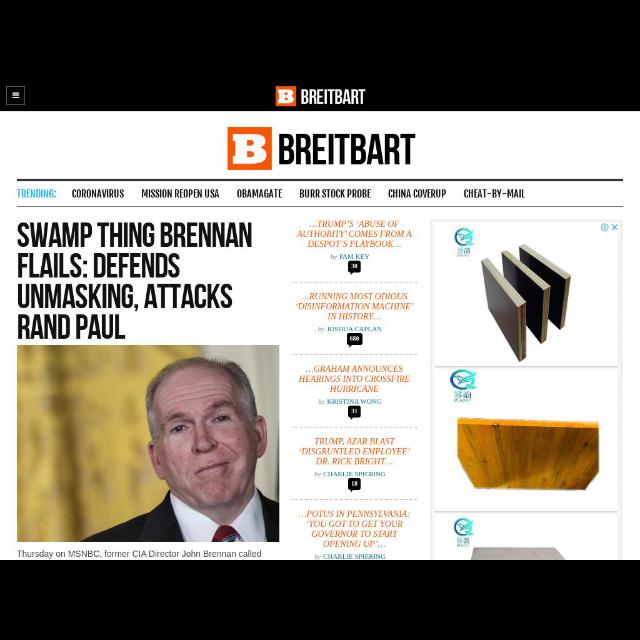icon: (7, 86, 25, 104), (348, 334, 362, 346), (349, 406, 361, 420), (349, 262, 361, 274), (349, 480, 361, 492)
iframe: (431, 220, 621, 560)
image: (18, 346, 278, 542), (228, 128, 272, 170), (276, 86, 296, 105)
text: (19, 284, 233, 312), (18, 223, 252, 247), (280, 134, 416, 164), (18, 254, 180, 278), (19, 315, 126, 339), (18, 550, 262, 558), (302, 88, 366, 104), (296, 302, 414, 310), (297, 230, 411, 238), (300, 448, 410, 456), (299, 510, 409, 518), (300, 292, 408, 300), (308, 520, 402, 528), (308, 240, 400, 248), (310, 220, 400, 228), (312, 530, 398, 538), (300, 376, 410, 382), (315, 438, 395, 446), (143, 190, 219, 198), (317, 457, 393, 465), (305, 366, 403, 372), (300, 190, 372, 198), (323, 540, 385, 548), (464, 190, 526, 198), (388, 190, 446, 198), (328, 312, 382, 320), (315, 471, 385, 477), (316, 554, 386, 560), (72, 190, 124, 198), (329, 384, 378, 392), (318, 326, 382, 332), (319, 398, 381, 404), (238, 190, 282, 198), (18, 190, 56, 198), (330, 254, 370, 260)
toolbar: (1, 81, 640, 111)
